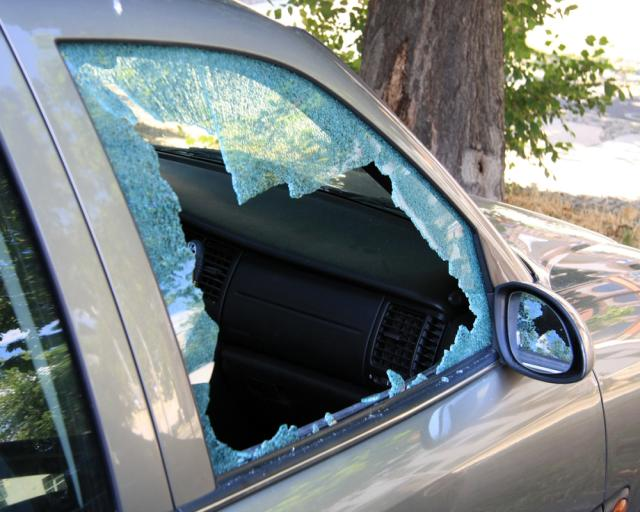glass shatter: (56, 43, 491, 477)
